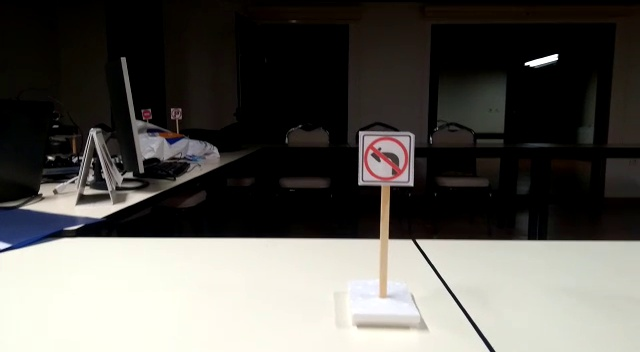sola_donulmez: (362, 132, 406, 181)
